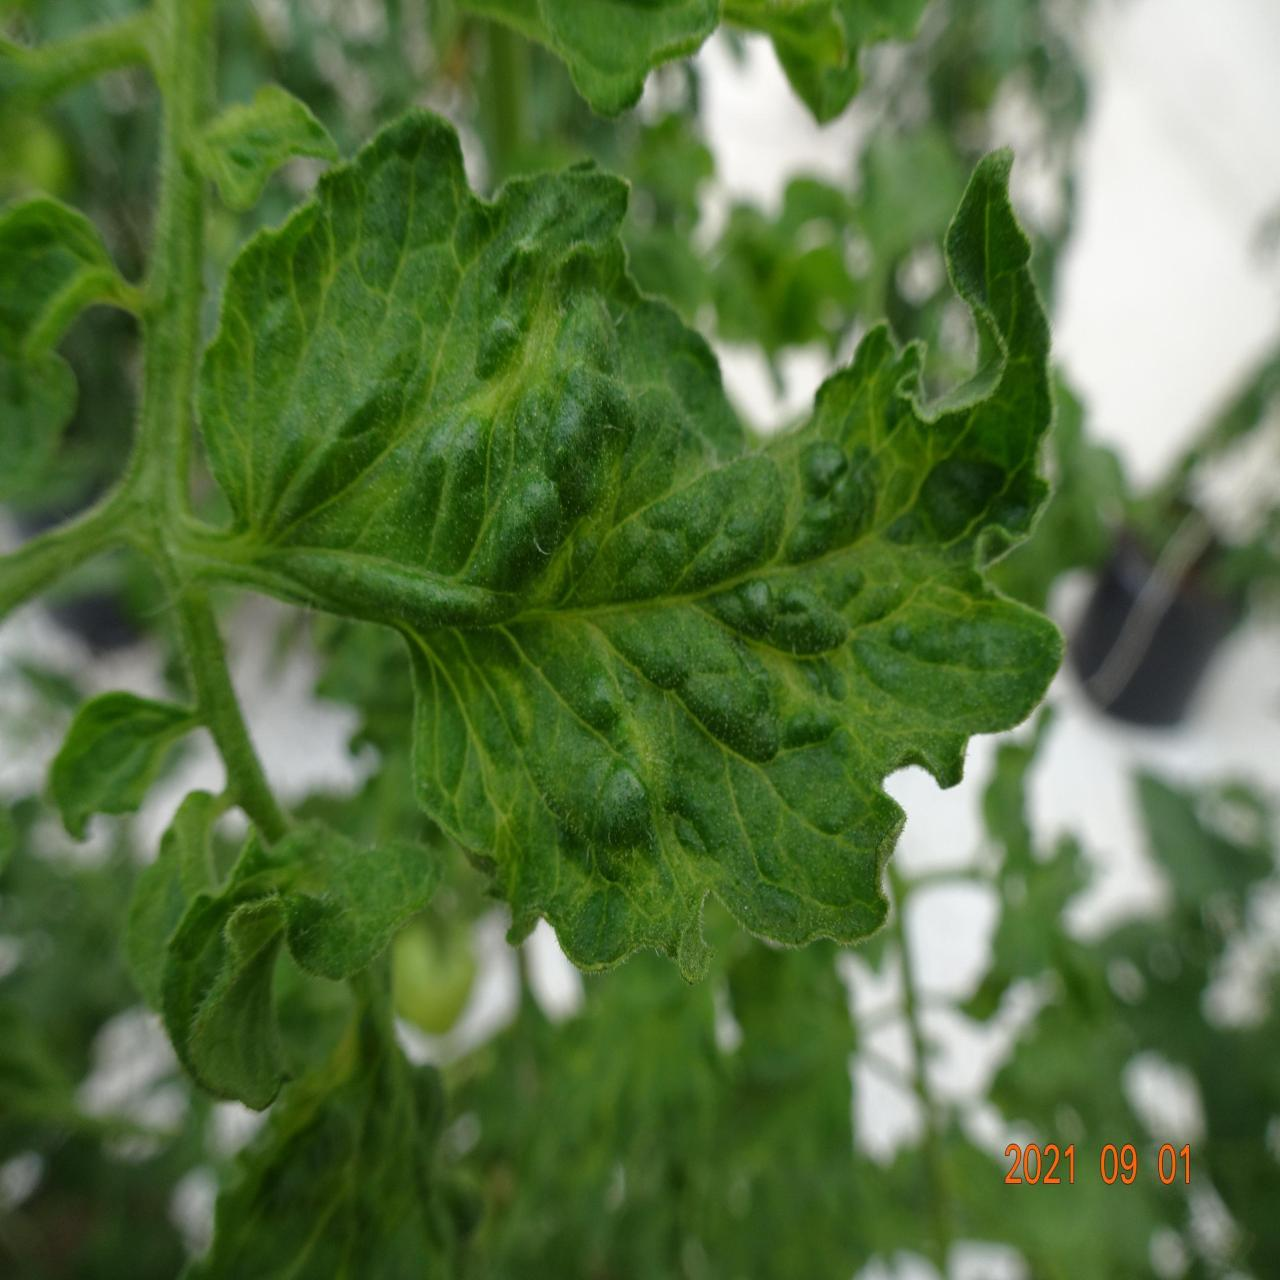T_L_R: (204, 118, 1068, 972)
